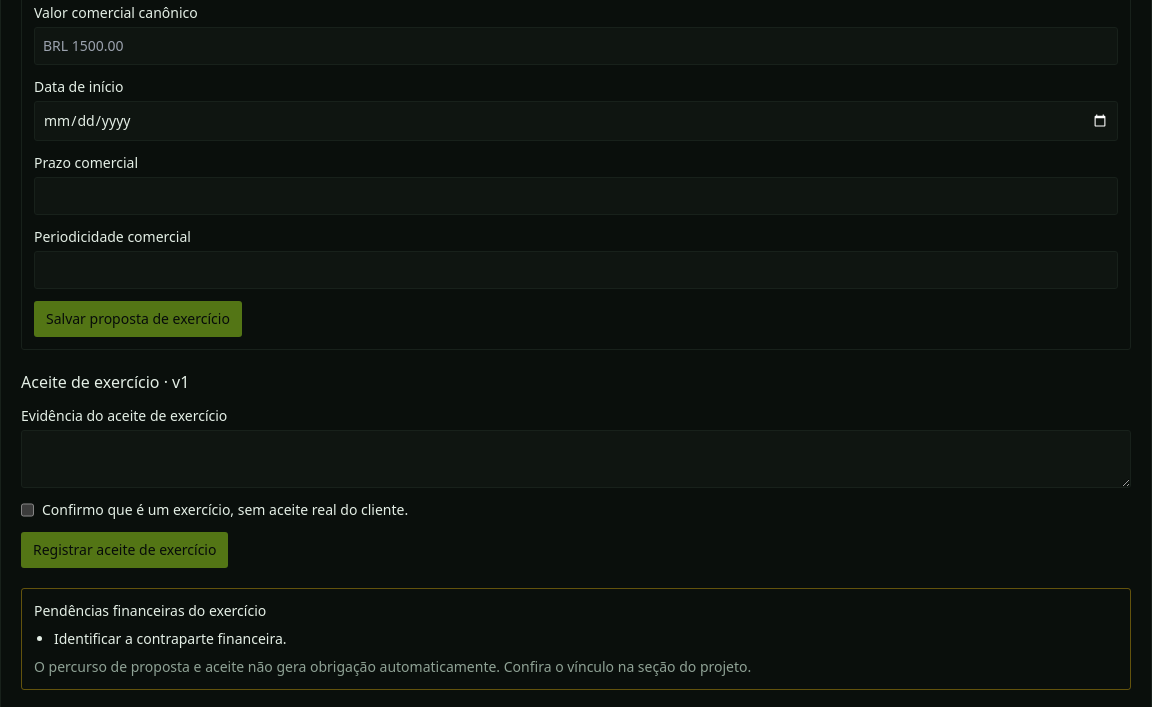
Scenario: Comercial QA na interface › conflito relê a versão nova e deixa a anterior disponível apenas como histórico
(page scrolled)
In the text box labelled "Evidência do aceite de exercício": (576, 459) [21, 430, 1131, 488], type "Evidência do exercício sintético."
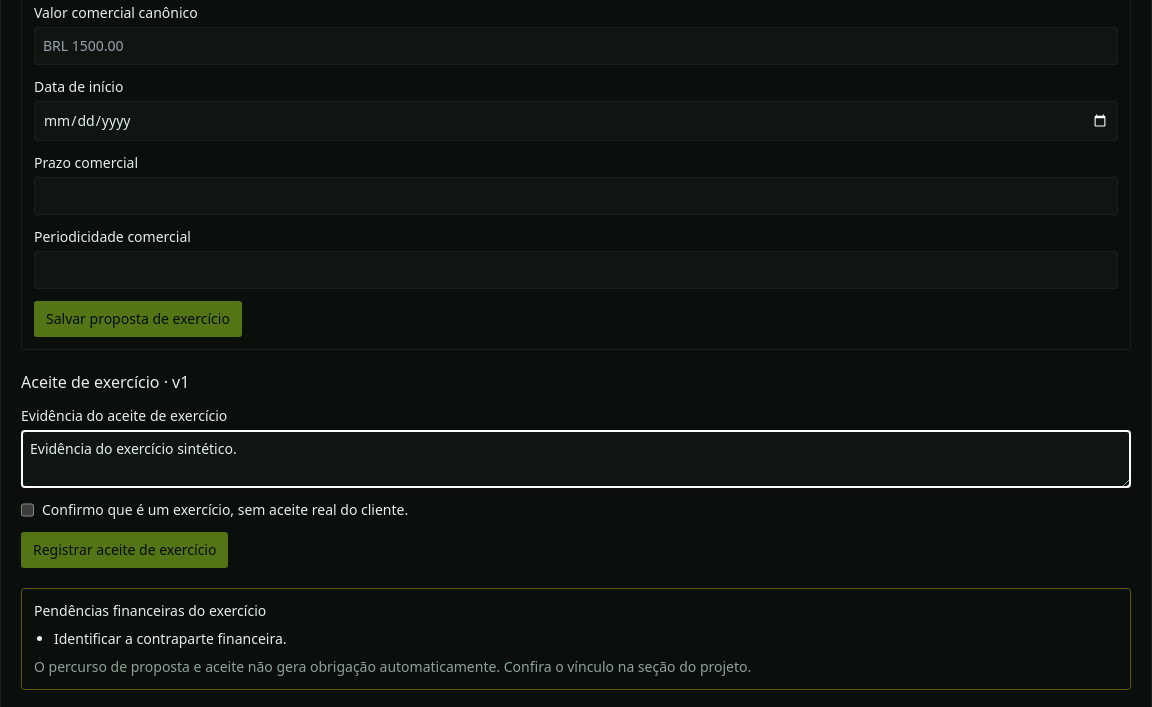
Click the checkbox labelled "Confirmo que é um exercício": (28, 510) [21, 500, 34, 520]
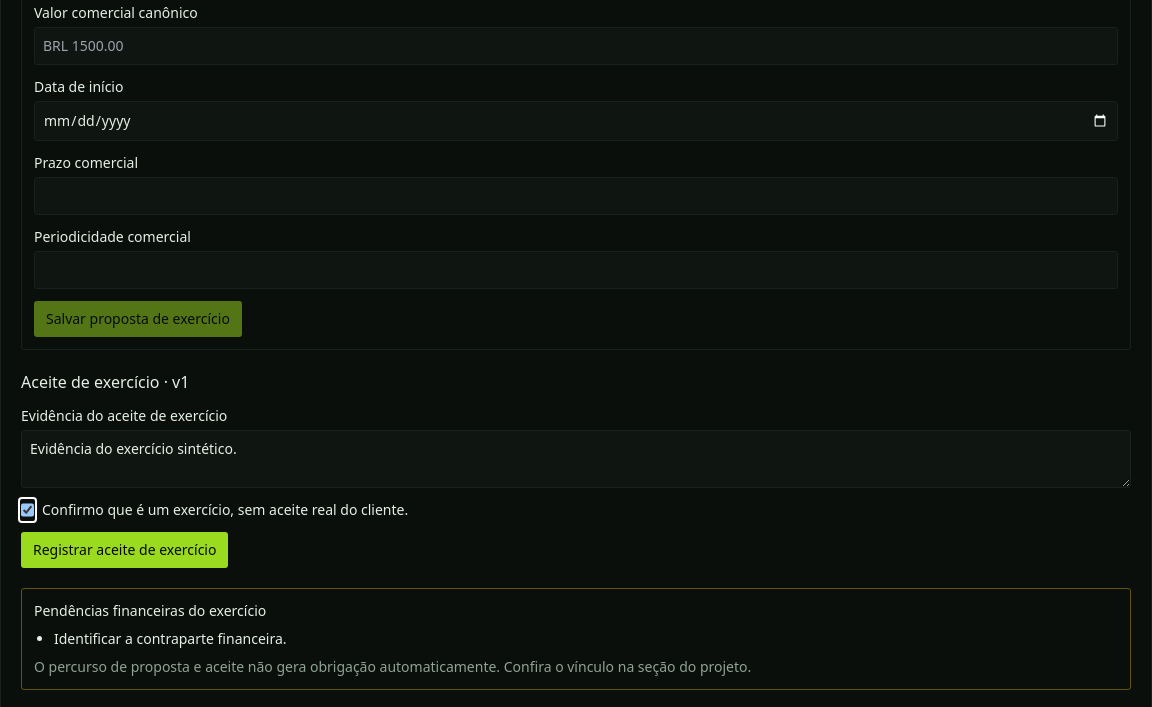
Click the button "Registrar aceite de exercício": (125, 550) [21, 532, 228, 568]
(page scrolled)
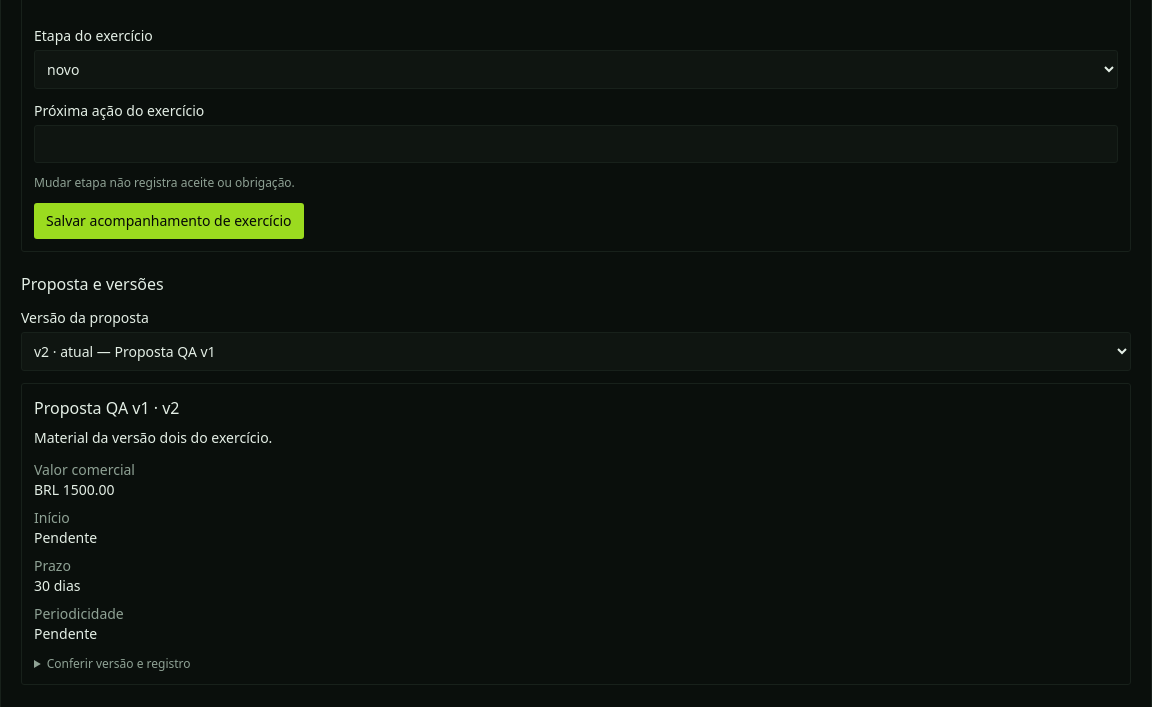
expect the text "Material da versão dois do exercício." is shown: met, box [34, 428, 272, 447]
Select "v1 · histórica — Proposta QA v1" in the dropdown labelled "Versão da proposta": (576, 352) [21, 332, 1131, 371]
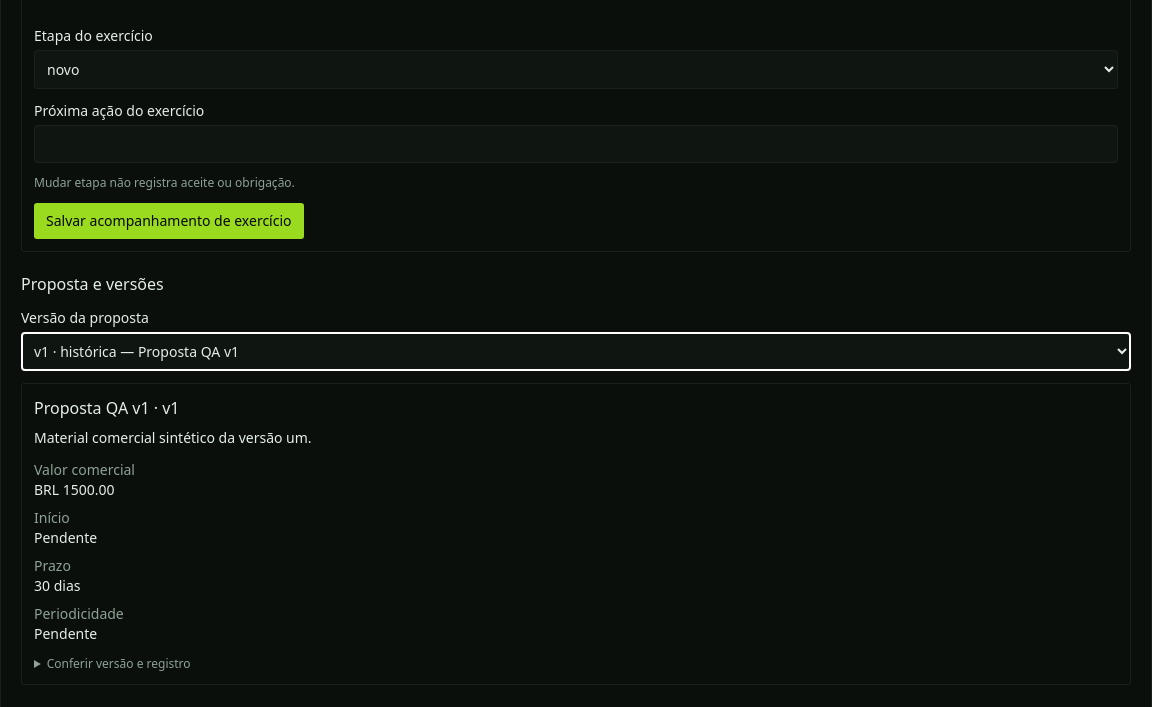
expect the button "Registrar aceite de exercício" is not shown: met
expect the text "Material comercial sintético da versão um." is shown: met, box [34, 428, 312, 447]
